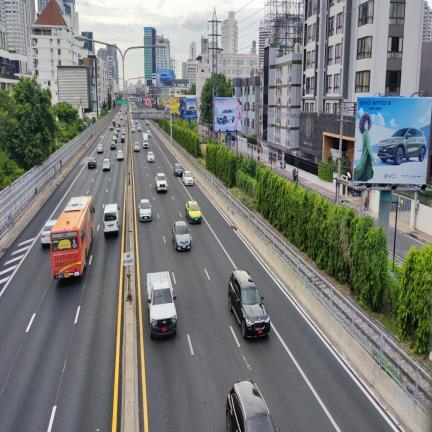bus: (51, 196, 94, 278)
car: (228, 269, 270, 338), (378, 127, 426, 165), (172, 222, 191, 248), (41, 220, 56, 245), (216, 109, 235, 124), (139, 199, 152, 220), (155, 173, 167, 192), (159, 73, 172, 85), (183, 170, 193, 185), (173, 164, 182, 175), (88, 157, 97, 168), (186, 107, 196, 115), (103, 159, 110, 170), (147, 151, 154, 161), (117, 150, 123, 160), (143, 139, 149, 148), (134, 142, 140, 151), (97, 144, 103, 153), (110, 141, 116, 149), (121, 134, 125, 142), (137, 125, 141, 131), (148, 130, 151, 137), (114, 131, 118, 136), (115, 126, 119, 131), (117, 122, 120, 128), (112, 121, 115, 127), (122, 128, 125, 134), (110, 125, 113, 130), (135, 119, 138, 123), (145, 121, 148, 125), (131, 128, 135, 131), (120, 116, 123, 120), (138, 122, 141, 125)
human: (353, 113, 376, 181), (233, 98, 241, 131), (364, 194, 368, 211), (72, 238, 78, 248), (283, 160, 286, 170)
pickup: (147, 271, 177, 336)
taxi: (186, 200, 201, 223), (112, 135, 117, 143)
truck: (143, 133, 148, 148)
van: (103, 203, 119, 236)
